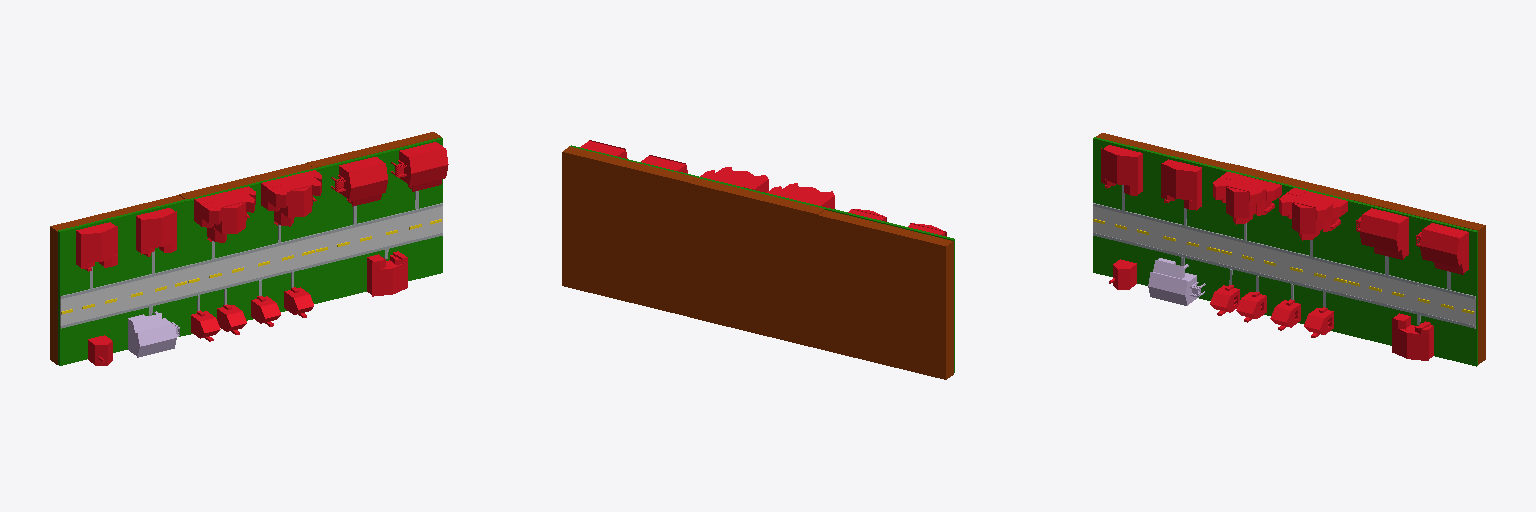
The model's file is town.obj.
3 views of the same model, side by side, from view 1: azimuth 30°, elevation 25°; view 2: azimuth 150°, elevation 25°; view 3: azimuth 330°, elevation 25° (orthographic).
Parts seen in each view (by area): view 1: obj_0; view 2: obj_0; view 3: obj_0.
Part boxes in pixels (bbox=[...]): obj_0: bbox=[50, 132, 448, 365]; obj_0: bbox=[562, 140, 954, 379]; obj_0: bbox=[1093, 133, 1485, 366].
Bounding box in the file's own units: 602 × 202 × 75.